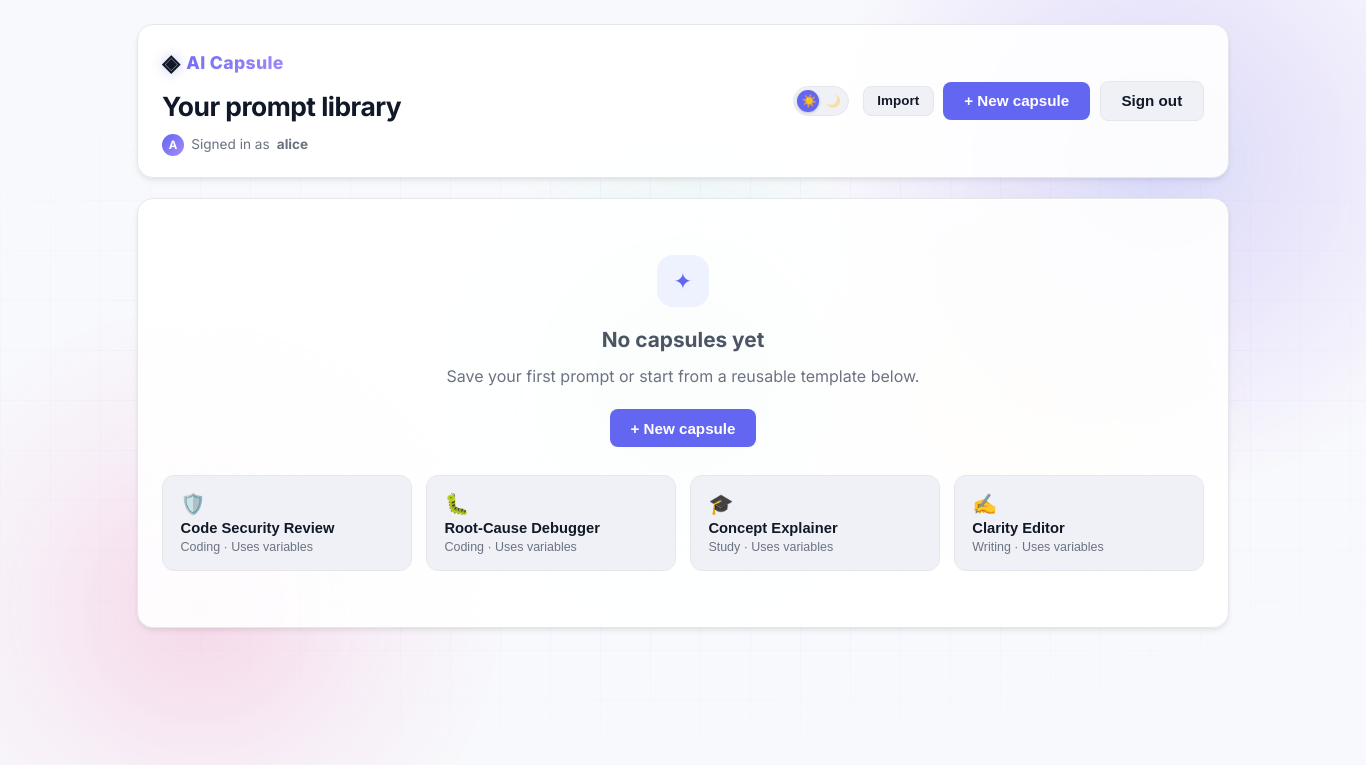
Test: AI Capsule UI › starter template prefills a new capsule and Use modal fills {{variables}}
The image size is (1366, 765).
Later steps or results of the test are not shown.
Check: the element with test id "empty-state" is shown, box [137,198,1229,628]
Click the text "Code Security Review": (258, 528) [181,520,334,536]
(page scrolled)
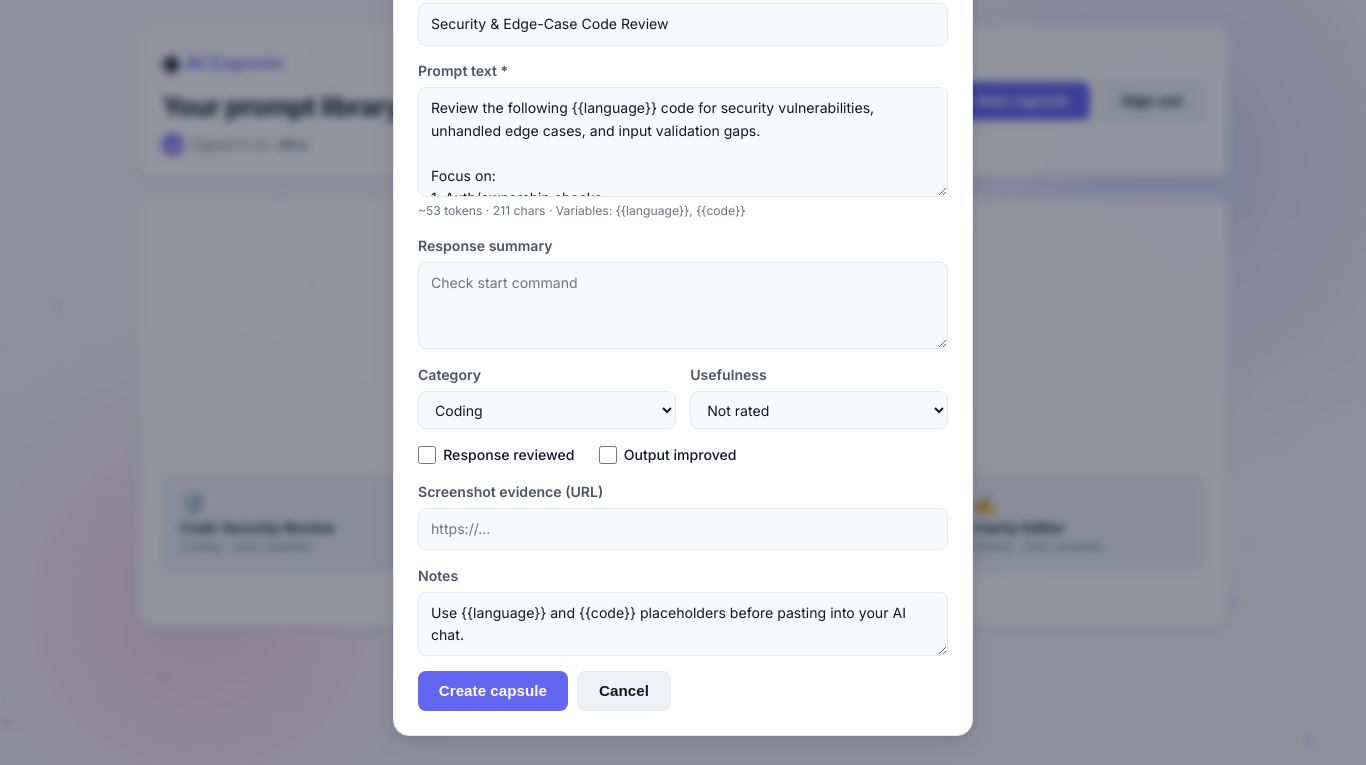
Check: the dialog is shown, box [393,0,973,736]
Check: the field labelled "Prompt title *" holds "Security & Edge-Case Code Review", box [418,3,948,46]
Click the button "Create capsule": (493, 691) [418,671,568,711]
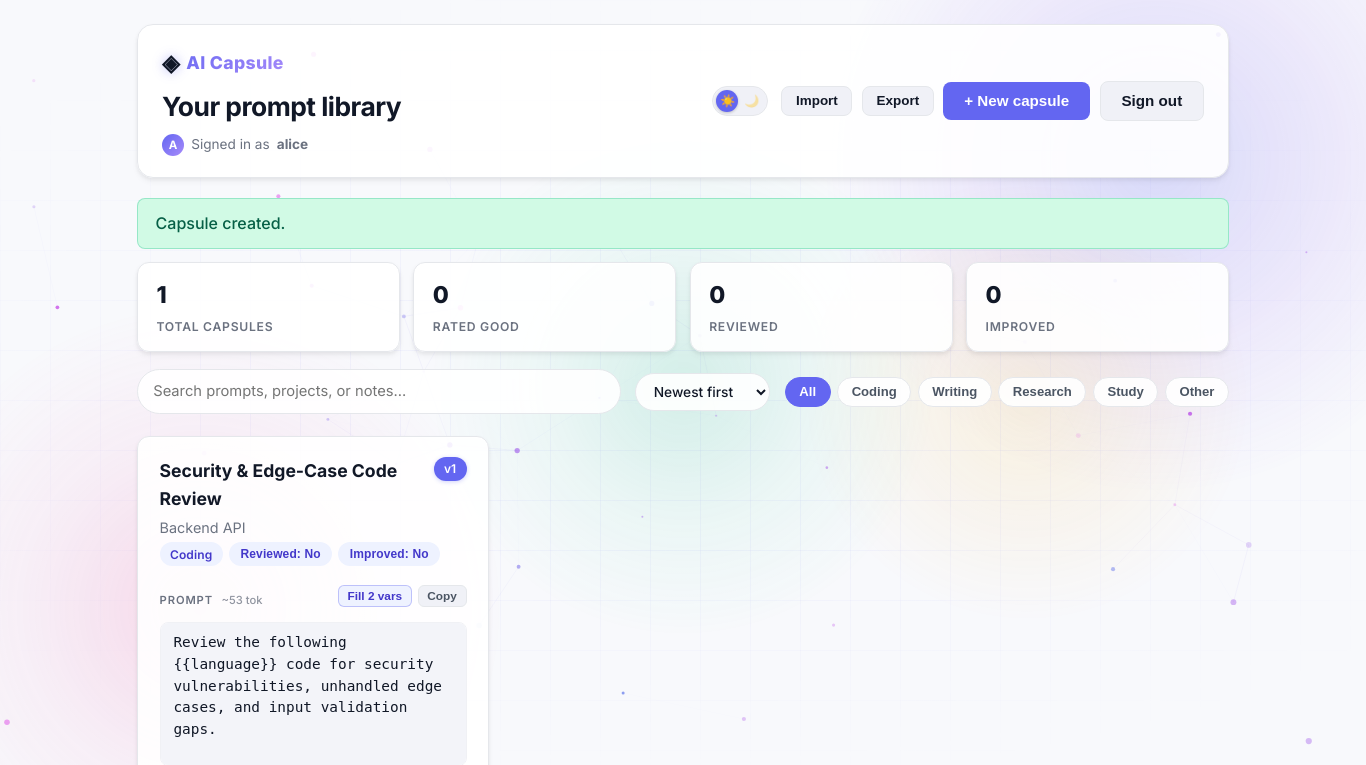
Check: the heading "Security & Edge-Case Code Review" is shown, box [160,457,426,513]
Open variable filler modal
Click the button "Fill 2 vars": (375, 596) [338,585,412,607]
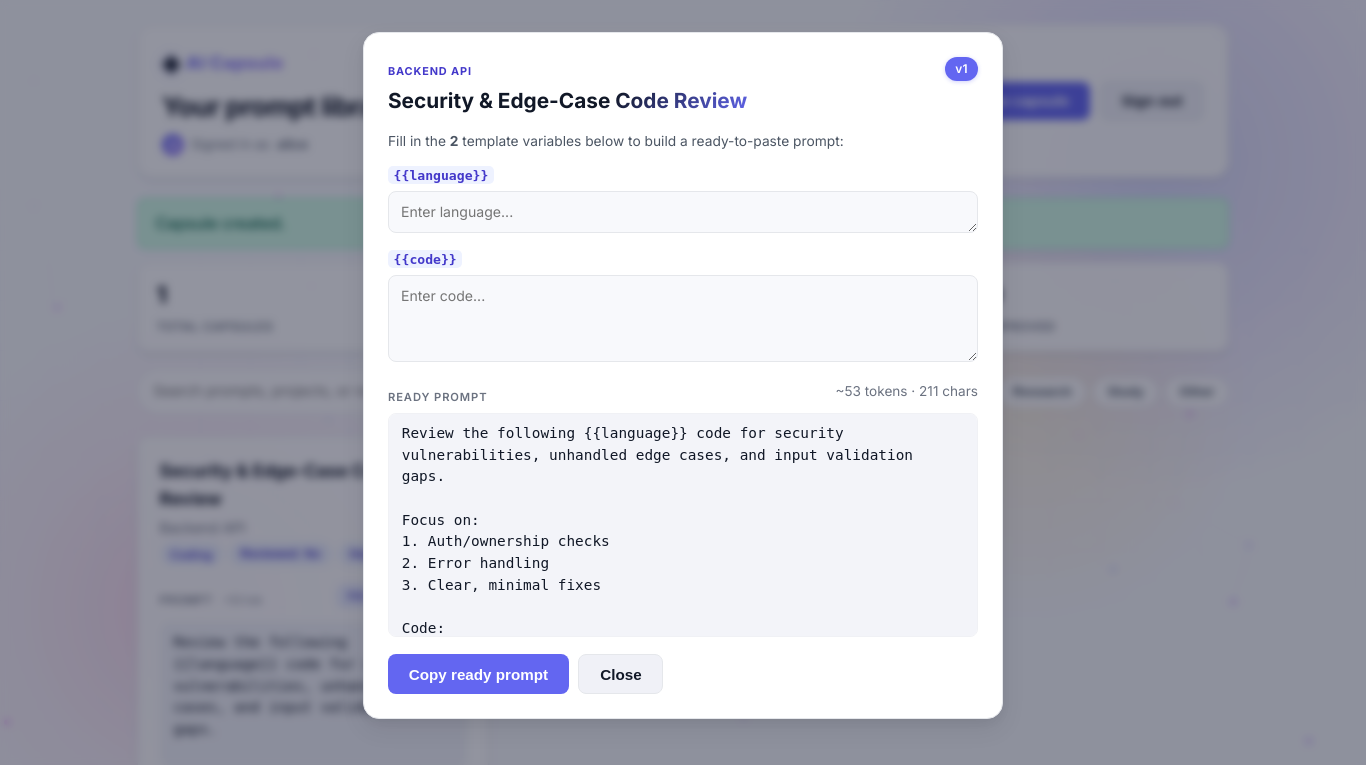
In the text box with placeholder "Enter language...": (683, 212) [388,191,978,233], type "TypeScript"
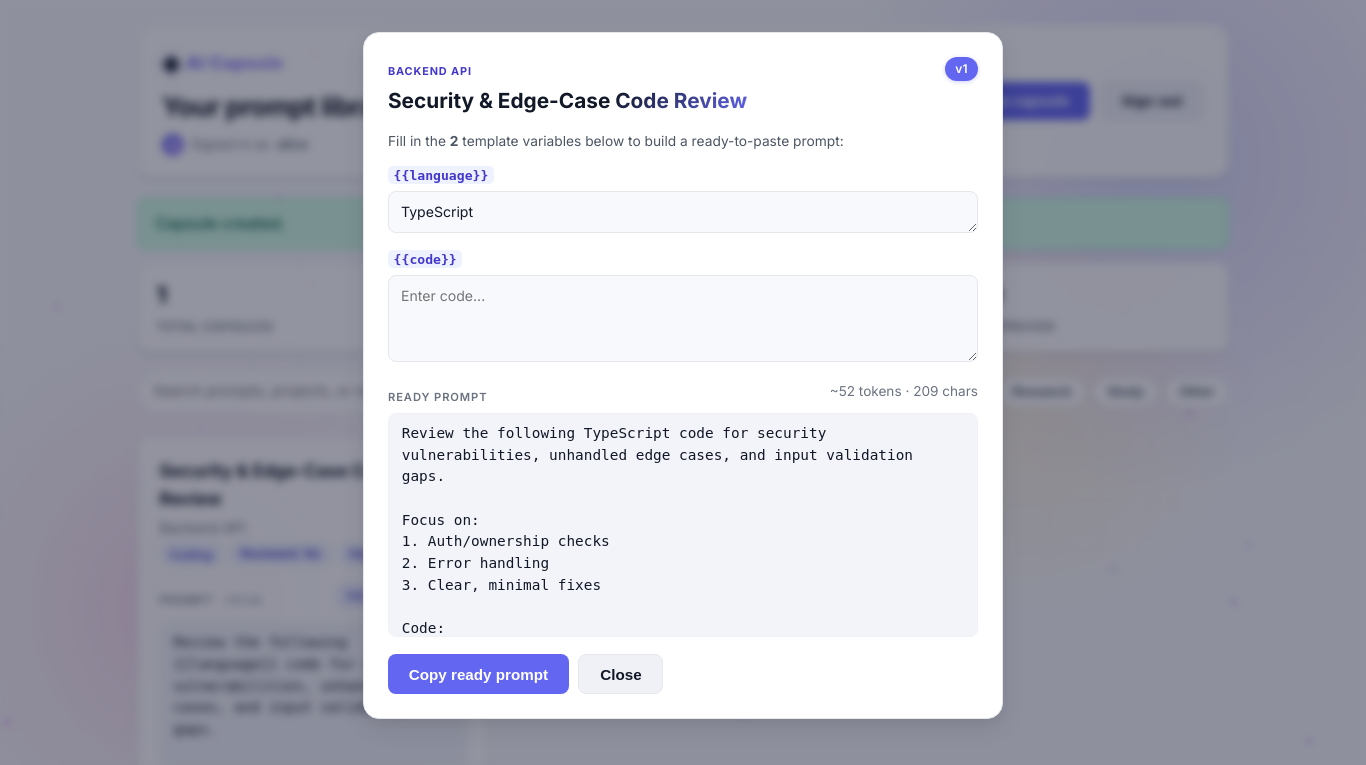
In the text box with placeholder "Enter code...": (683, 318) [388,275,978,362], type "const x = 1;"
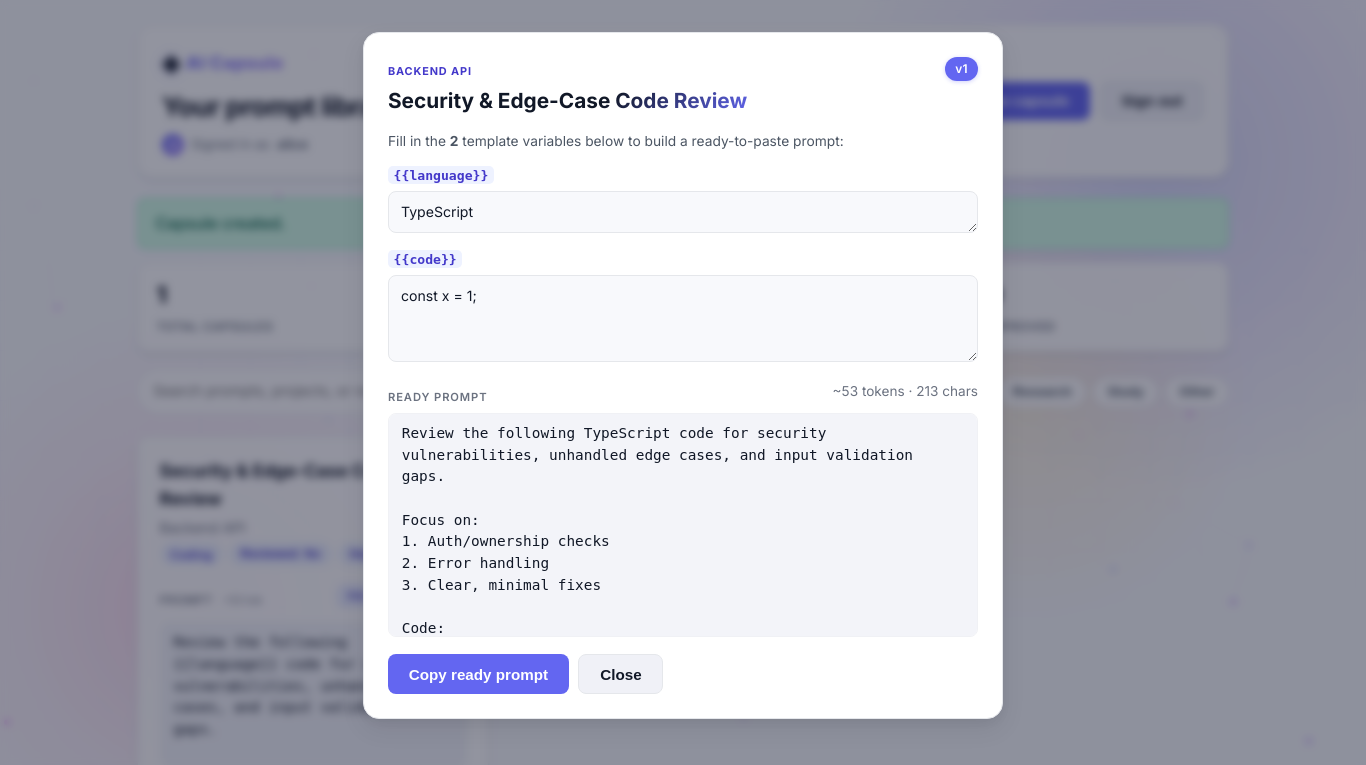
Check: the text "Review the following TypeScript code" is shown, box [402,425,922,657]
